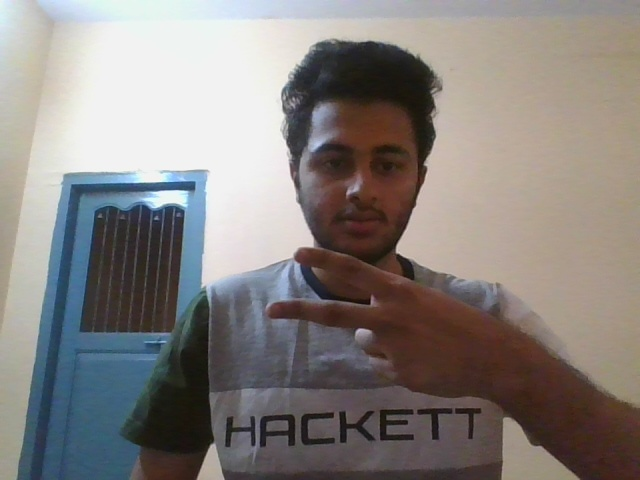Peace: (254, 242, 491, 402)
